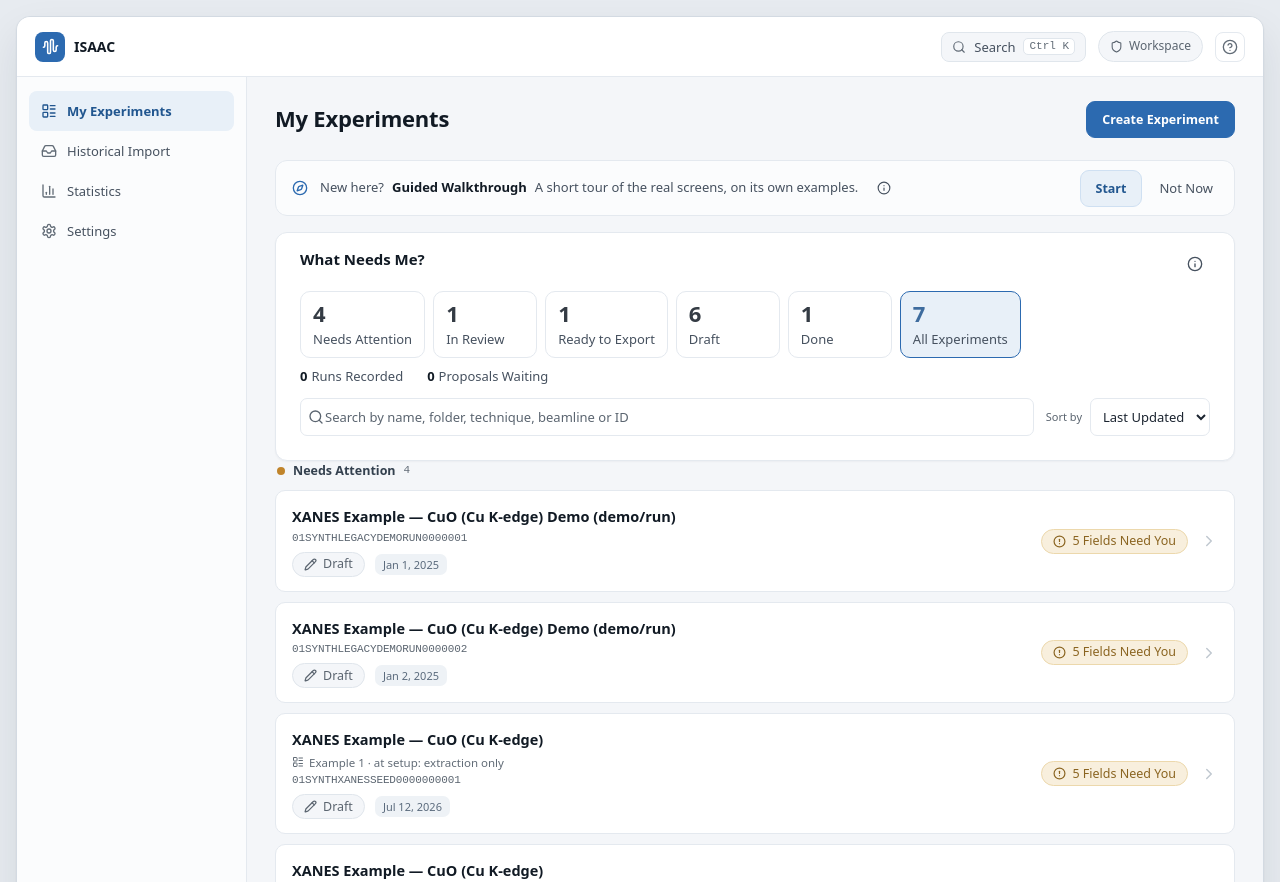
it: P26.0b · Reset Worked Example — presence & treatment › does NOT render the control when the backend is not synthetic-only
Click the button with aria-label "Start Guided Walkthrough" at {"x": 1111, "y": 188}, box [1080, 170, 1142, 207]
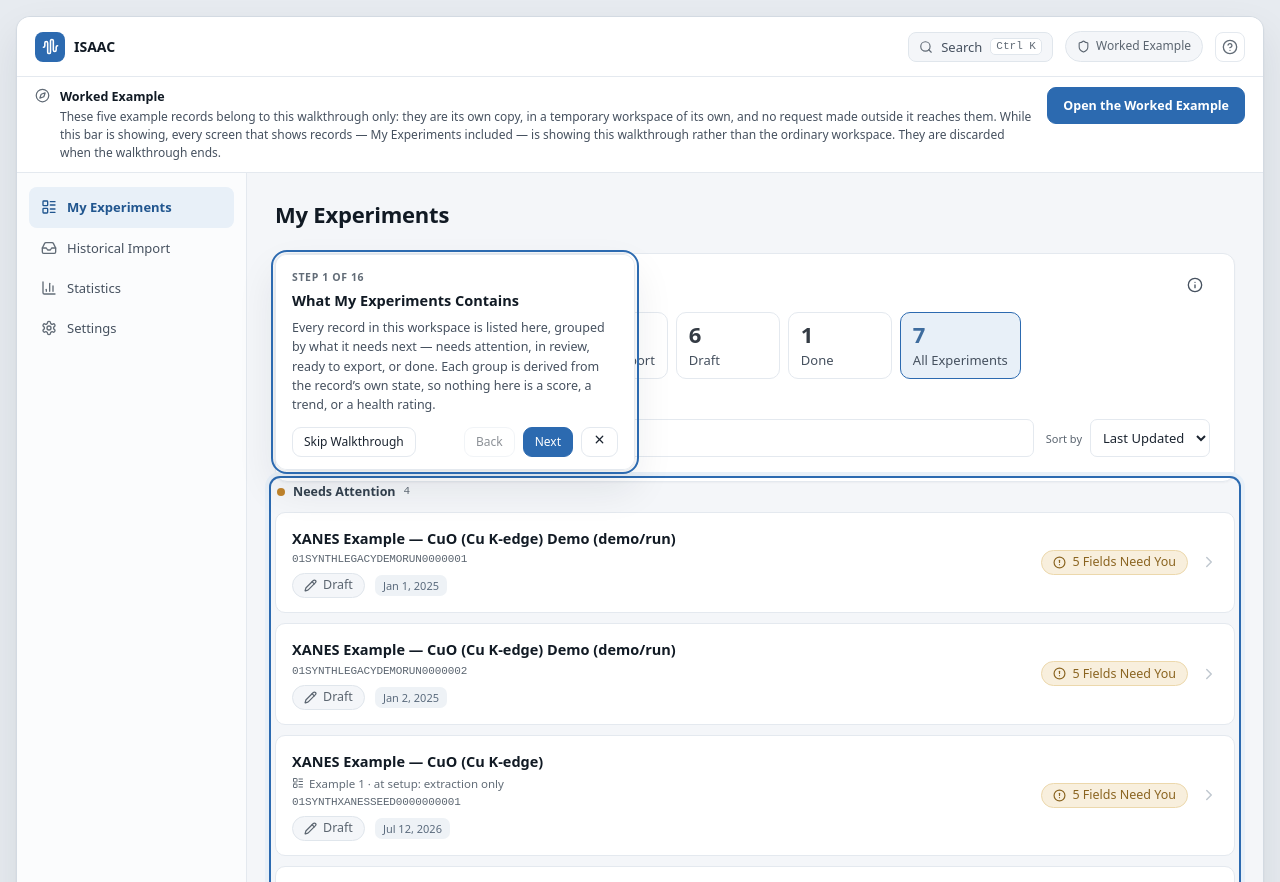
Check: the button "Open the Worked Example" is shown, box [1047, 87, 1245, 124]
